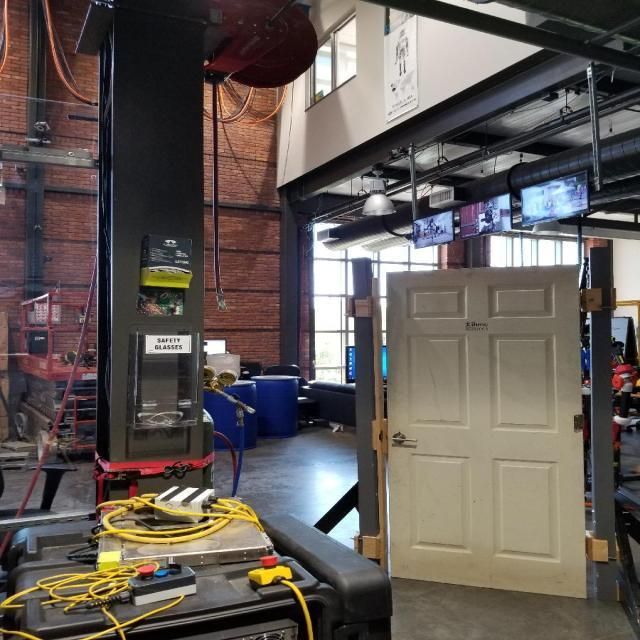door: (384, 263, 589, 600), (393, 432, 415, 444)
